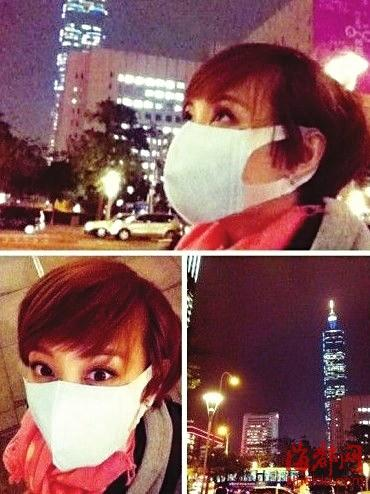face_mask: (23, 289, 149, 468), (166, 65, 268, 218)
